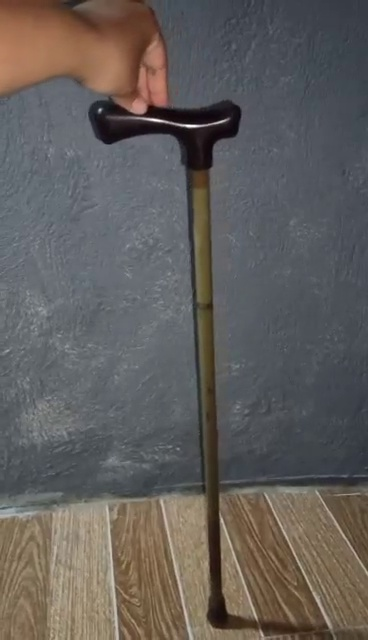cane: (89, 95, 240, 622)
hand: (63, 2, 170, 119)
